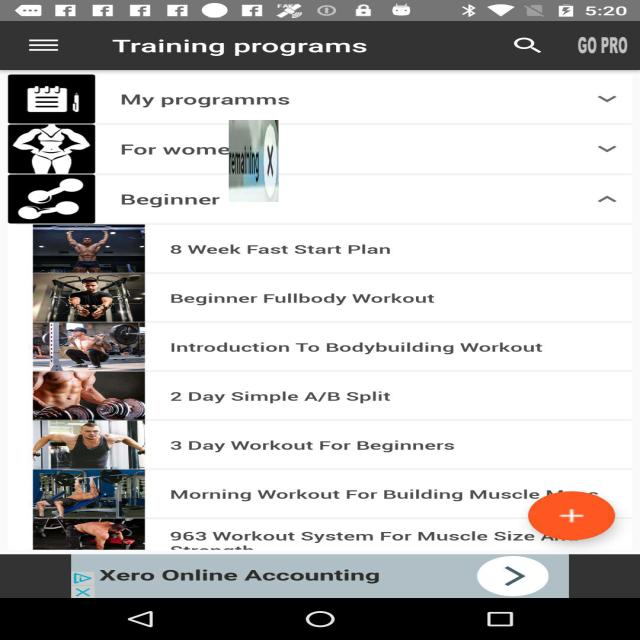misdirection: (228, 120, 278, 202)
